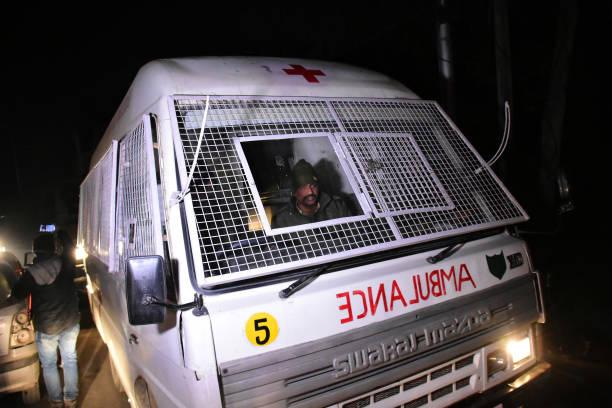AMBULANCE: (325, 258, 479, 329), (276, 59, 328, 92)
